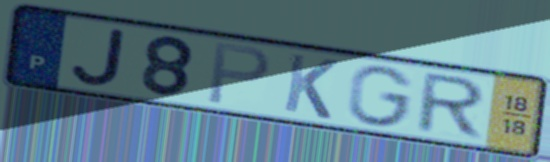8: (139, 34, 196, 99)
G: (346, 63, 418, 130)
J: (69, 26, 130, 89)
K: (280, 50, 341, 122)
P: (204, 40, 274, 107)
R: (411, 71, 491, 142)
